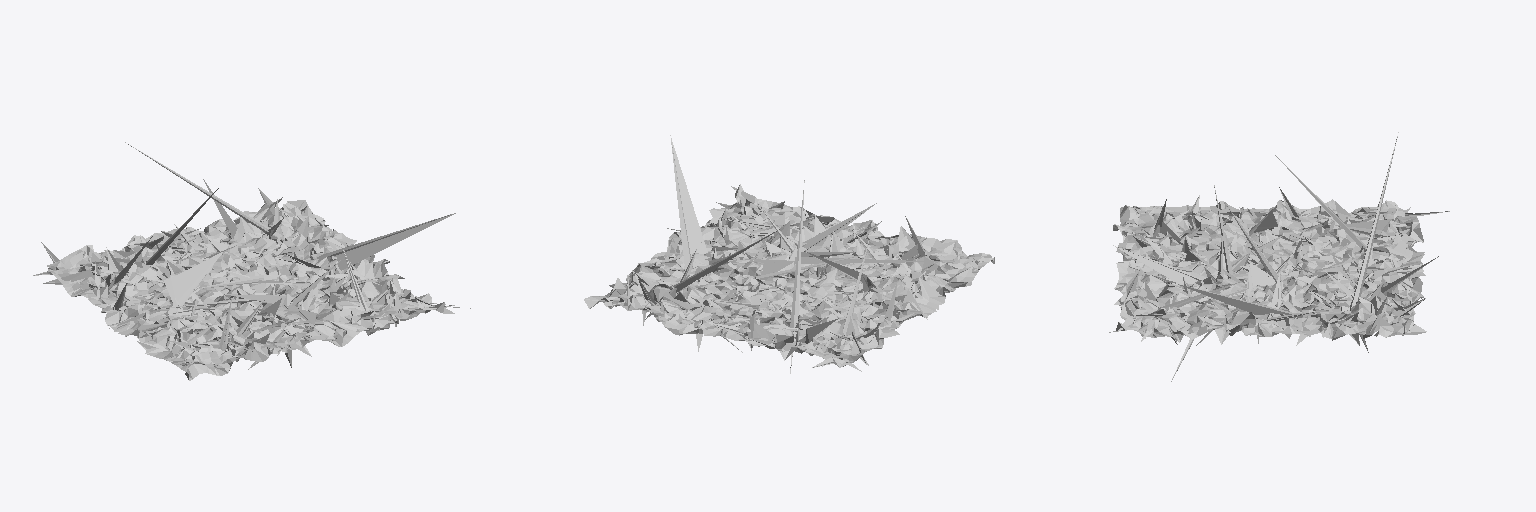
The model's file is spiked_planed.obj.
3 renders of one model, left to right at view 1: azimuth 30°, elevation 25°; view 2: azimuth 150°, elevation 25°; view 3: azimuth 270°, elevation 25°, orthographic.
Visible parts, largest first — view 1: Plane; view 2: Plane; view 3: Plane.
Part boxes in pixels (bbox=[...]): Plane: bbox=[33, 142, 470, 380]; Plane: bbox=[584, 135, 994, 373]; Plane: bbox=[1109, 132, 1449, 381].
Size of the model in its own units: 14.05 by 7.65 by 13.14.